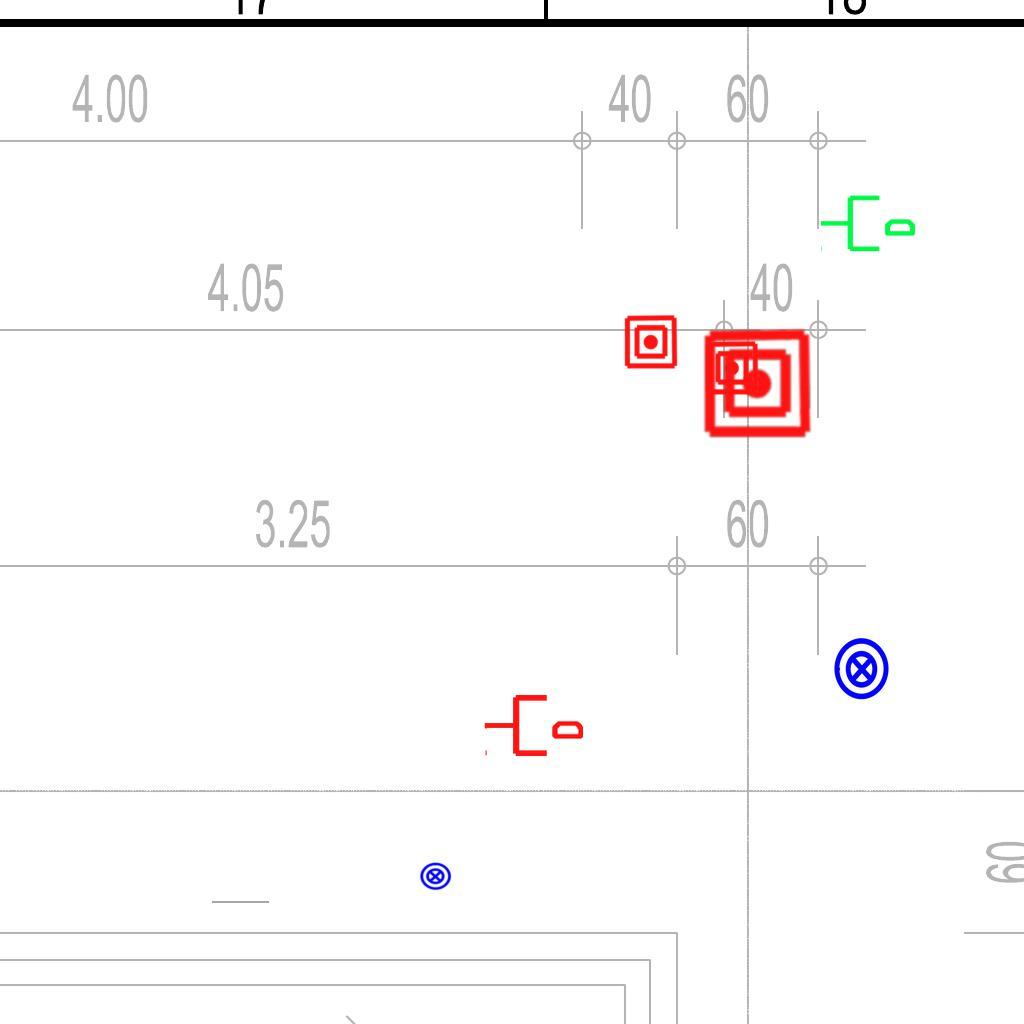Datenanschluss_einfach: (483, 691, 583, 760), (818, 187, 918, 256)
NAM-Nichtautomatischer_Melder: (701, 327, 814, 440), (623, 314, 679, 370), (704, 340, 760, 396)
Taster_beleuchtet: (829, 636, 895, 702), (419, 860, 452, 893)
